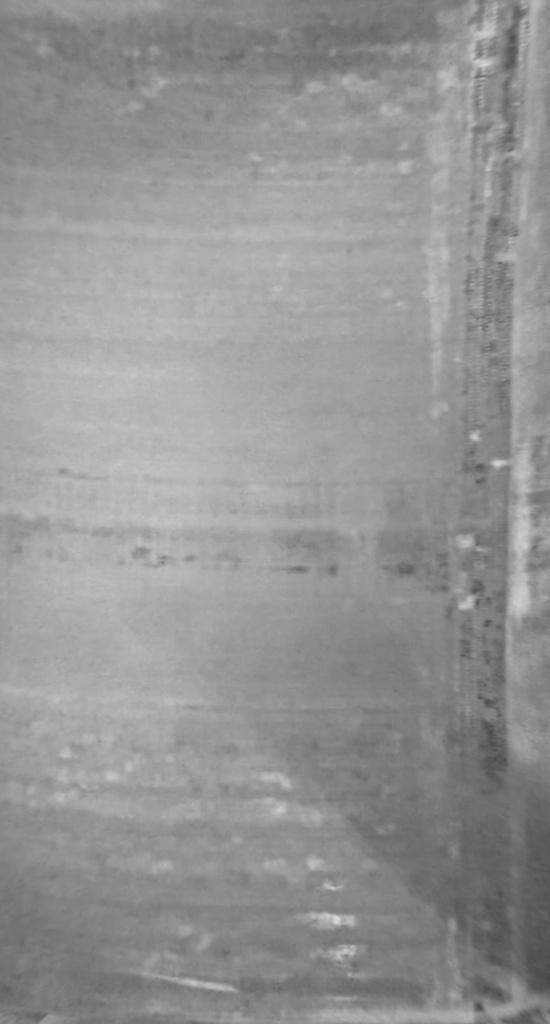splice: (446, 1, 542, 1021)
